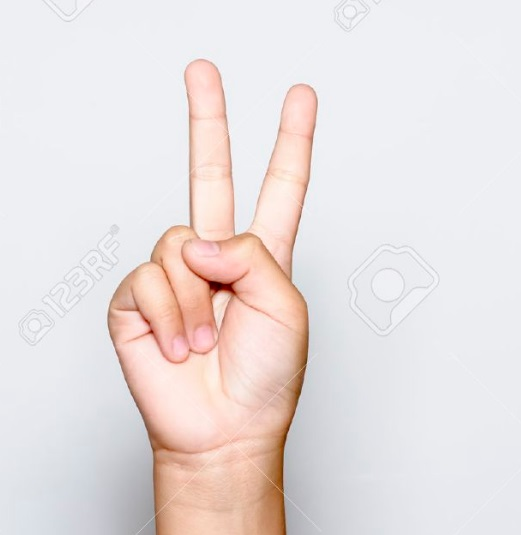peace: (106, 57, 319, 460)
